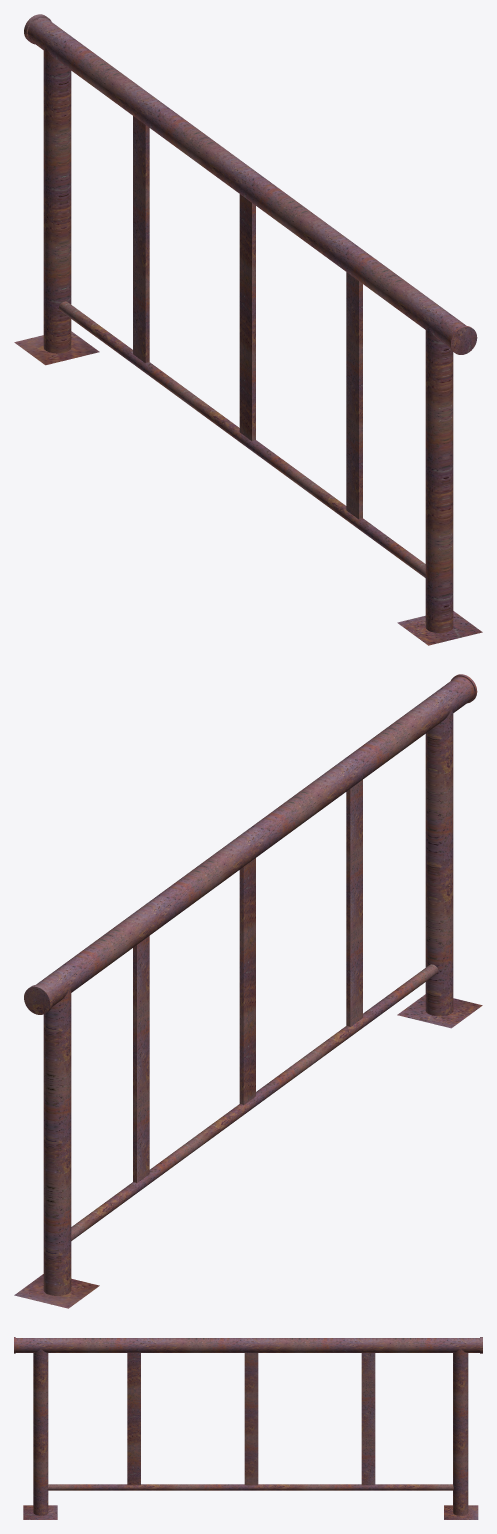
The model's file is barrier_metal.fbx.
The picture shows the model from 3 angles, top to bottom: view 1: azimuth 30°, elevation 25°; view 2: azimuth 150°, elevation 25°; view 3: azimuth 270°, elevation 25°; orthographic projection. The views are drawn at different scales.
Visible parts, largest first — view 1: barrier_metal; view 2: barrier_metal; view 3: barrier_metal.
Boxes of the visible parts, box(x1,y1,x2,y2) form: barrier_metal: box(14, 14, 482, 645); barrier_metal: box(14, 674, 482, 1308); barrier_metal: box(14, 1337, 482, 1519).
Size of the model in its own units: 0.0847 by 0.4719 by 1.15.
